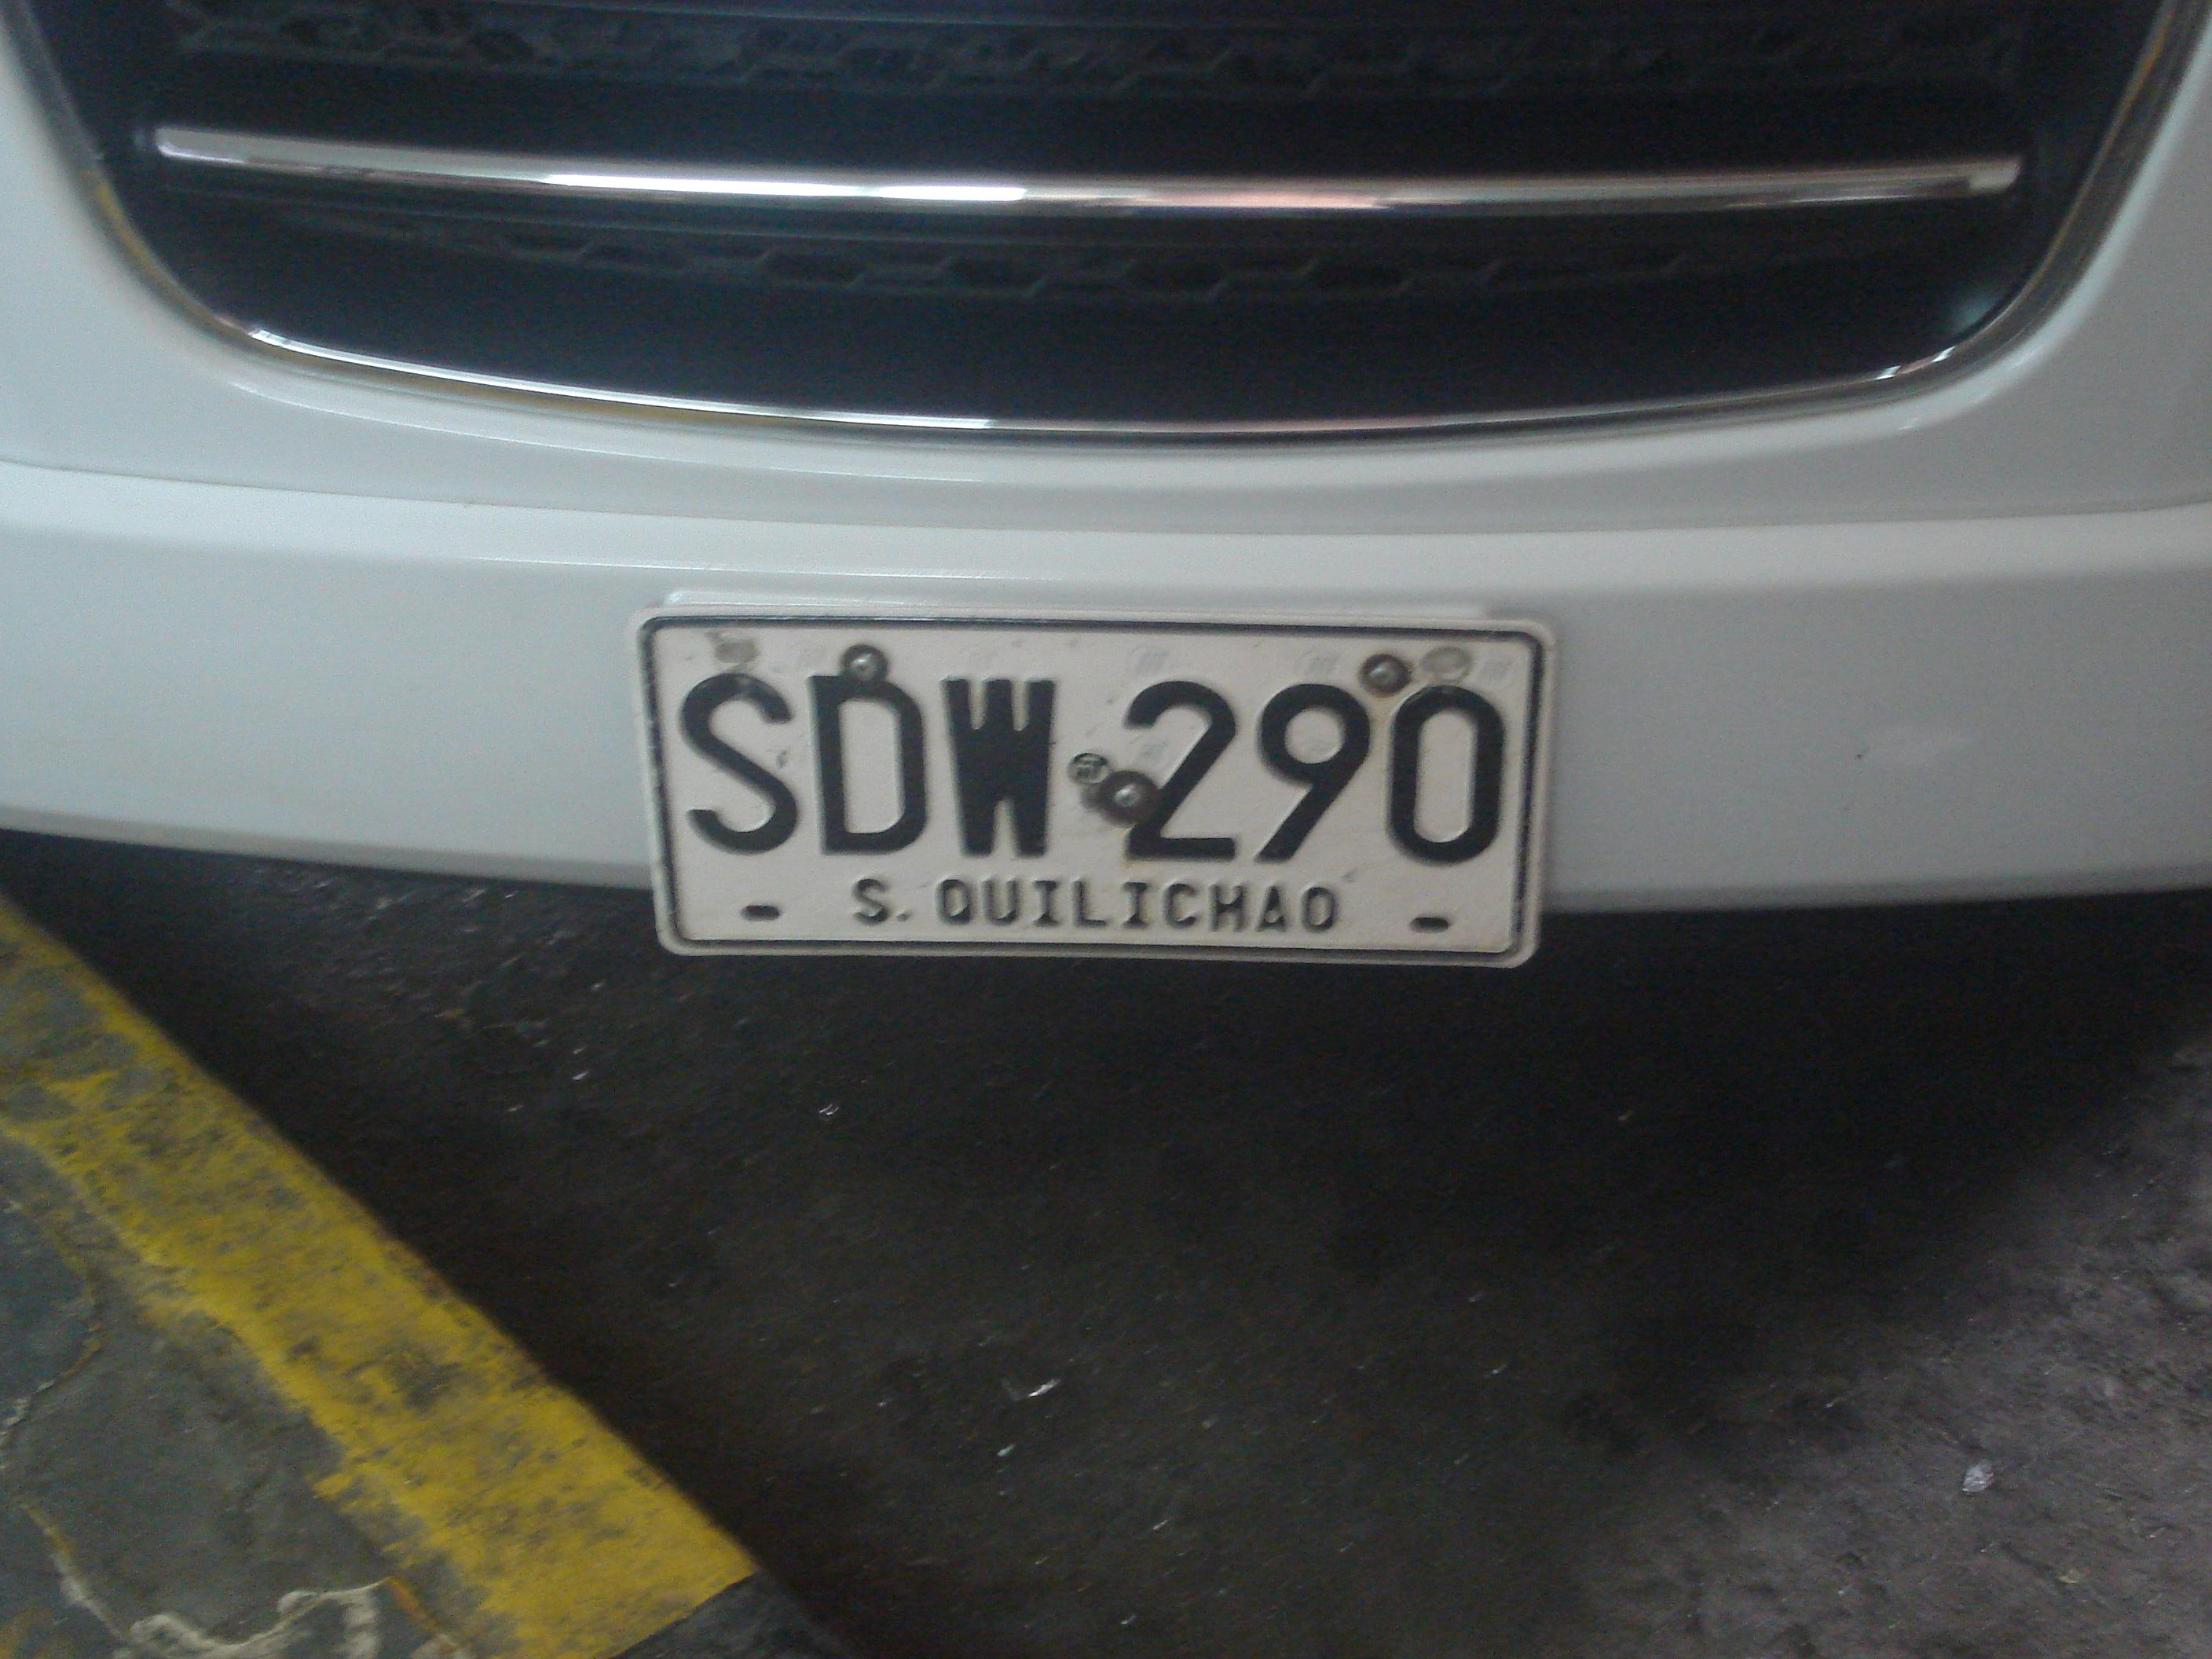placas: (615, 587, 1553, 985)
